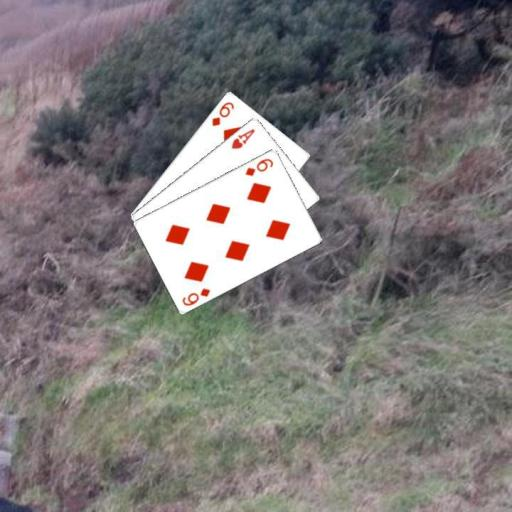6D: (209, 98, 236, 127), (179, 285, 212, 308), (243, 155, 275, 178)
AH: (228, 125, 257, 150)
